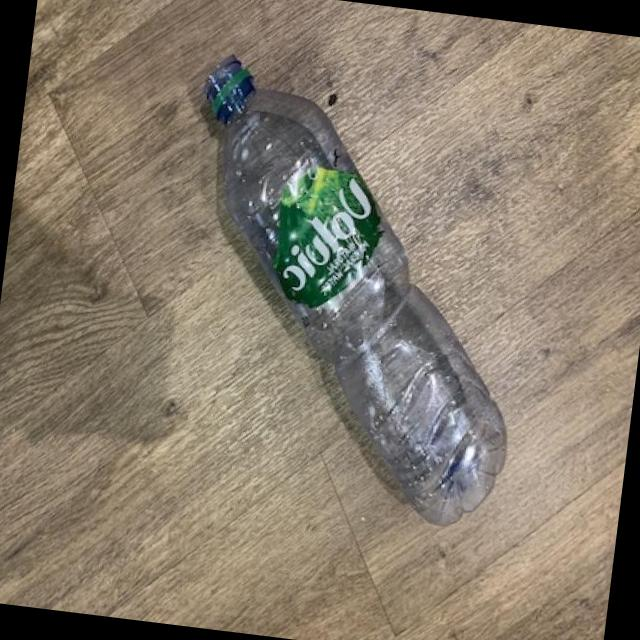plastic_bottle: (152, 50, 550, 533)
